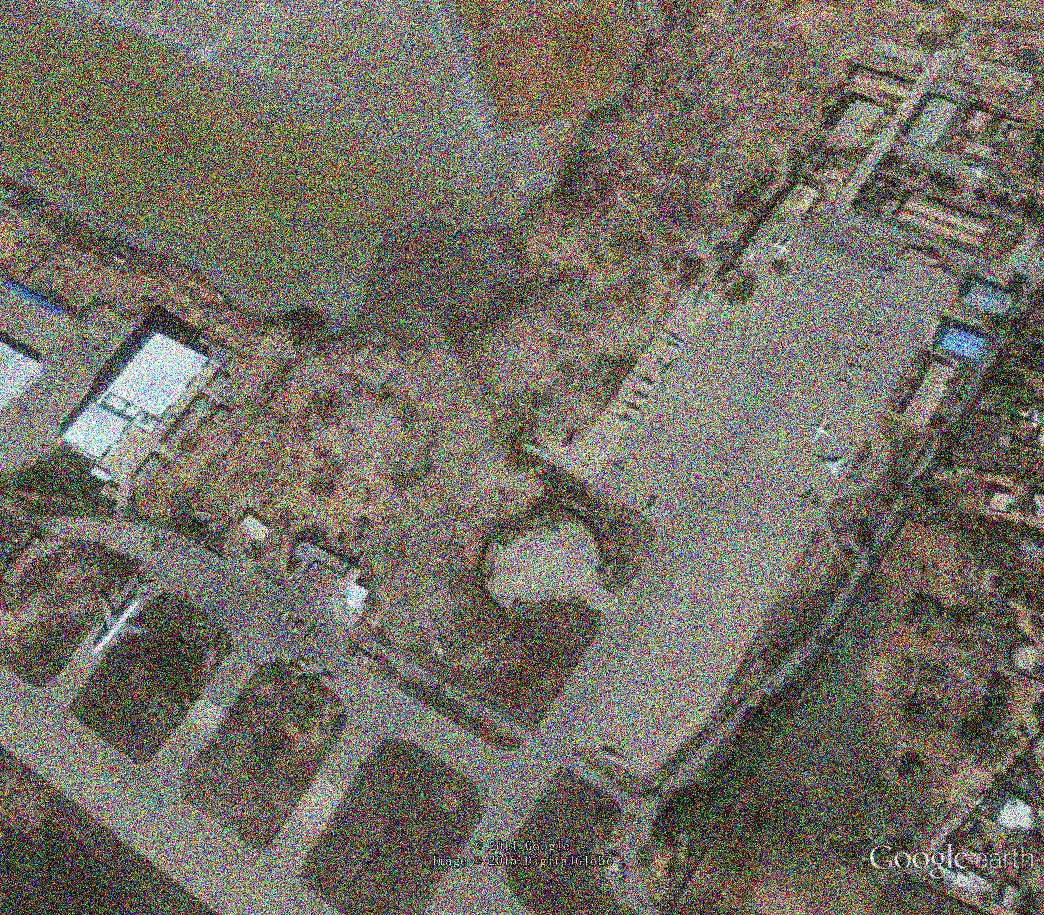aircraft: (88, 580, 160, 663), (819, 453, 852, 484), (805, 412, 834, 444), (795, 486, 825, 514), (652, 355, 681, 379), (961, 160, 993, 181), (768, 234, 795, 258), (691, 286, 715, 307), (862, 324, 885, 345), (846, 357, 870, 375), (855, 340, 876, 360), (837, 372, 856, 394), (850, 265, 868, 283), (867, 270, 885, 286)
